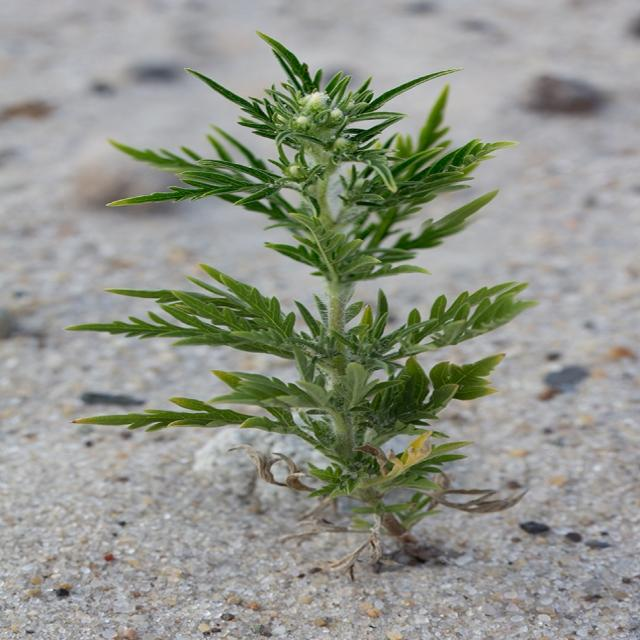ambrosia: (86, 49, 513, 496)
